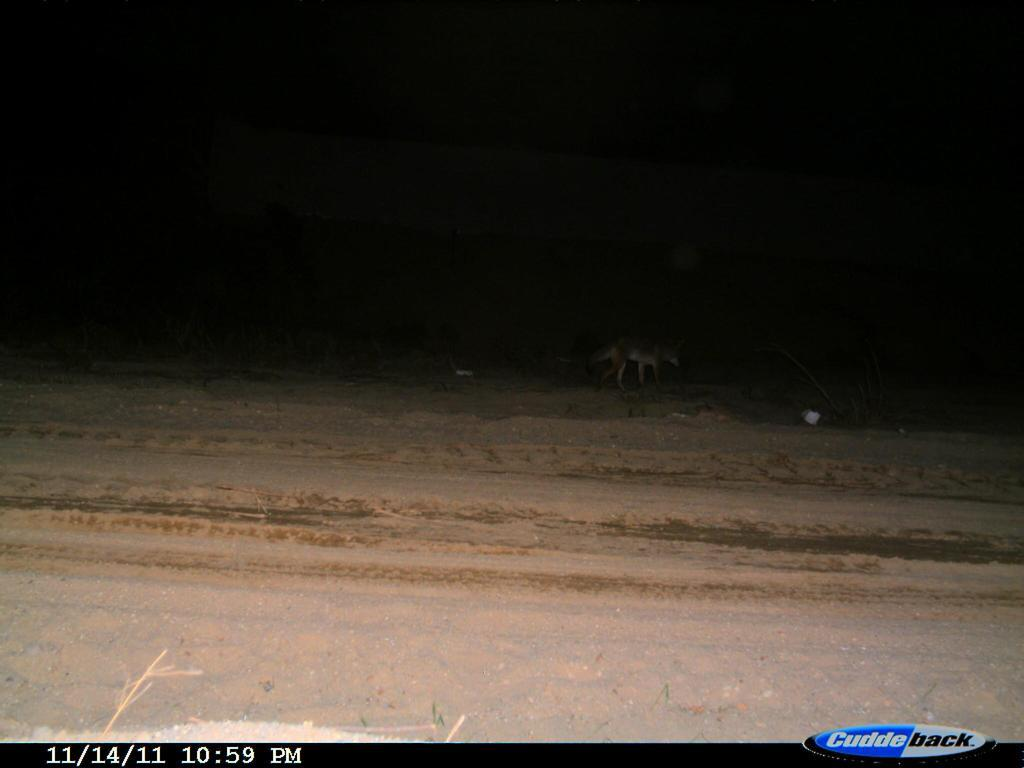coyote: (574, 323, 696, 402)
